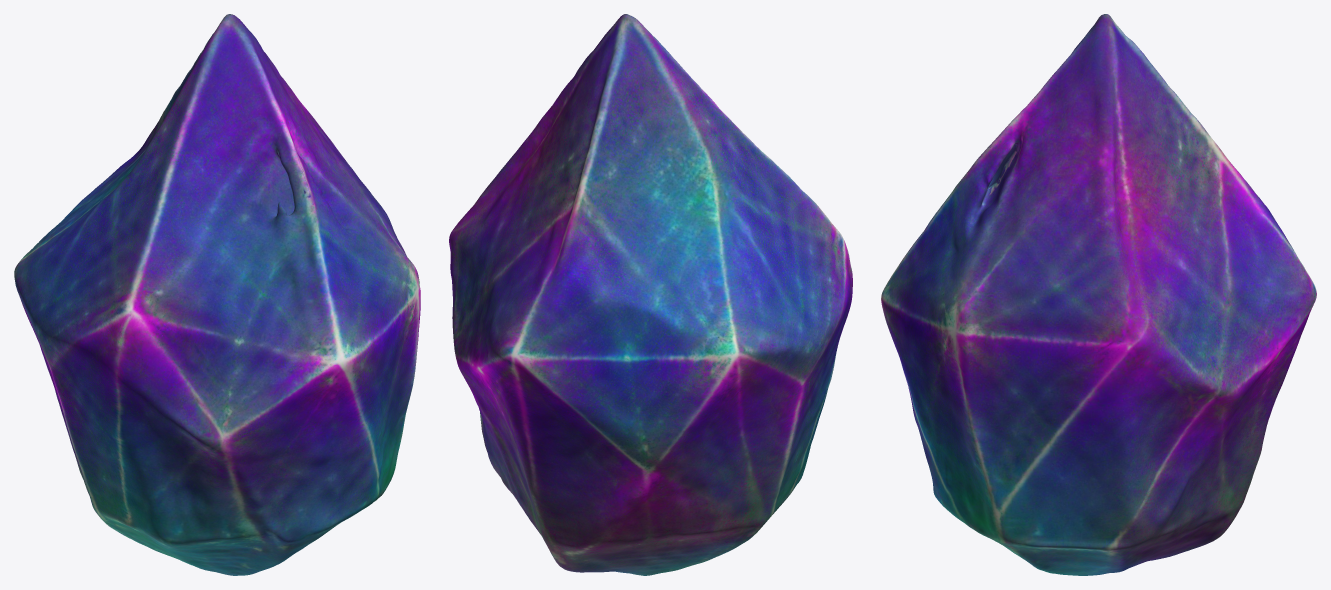
The model's file is iridescent.glb.
The picture shows the model from 3 angles, left to right: view 1: azimuth 30°, elevation 25°; view 2: azimuth 150°, elevation 25°; view 3: azimuth 270°, elevation 25°; orthographic projection. The views are drawn at different scales.
Visible parts, largest first — view 1: geometry_0; view 2: geometry_0; view 3: geometry_0.
Part boxes in pixels (<box>): geometry_0: <box>14,14,420,575</box>; geometry_0: <box>449,14,852,575</box>; geometry_0: <box>881,14,1316,575</box>.
Size of the model in its own units: 0.3805 by 0.5754 by 0.4056.
Materials: 1 (1 with a texture image).
